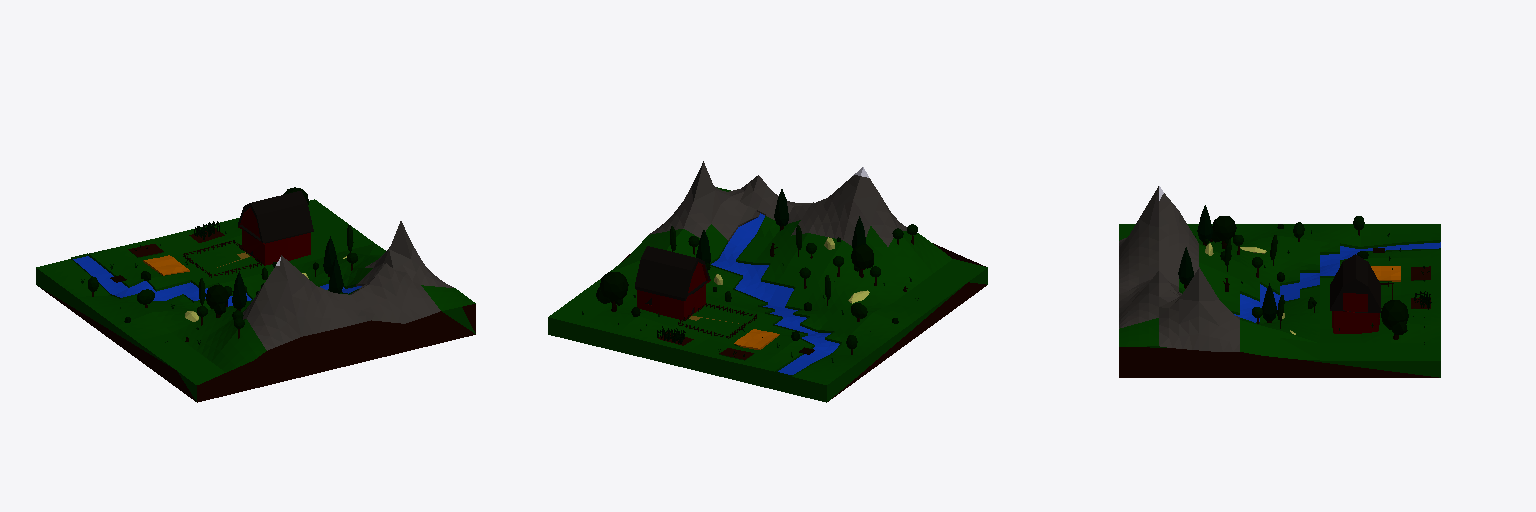
File: fazendinha2.obj
3 renders of one model, left to right at view 1: azimuth 30°, elevation 25°; view 2: azimuth 150°, elevation 25°; view 3: azimuth 270°, elevation 25°, orthographic.
Parts seen in each view (by area): view 1: Plane.039, Cube.001_Cube.000; view 2: Plane.039, Cube.001_Cube.000, Icosphere.010_Icosphere.000; view 3: Plane.039, Cube.001_Cube.000, Icosphere.010_Icosphere.000, Icosphere.000_Icosphere.000.
Part boxes in pixels (bbox=[...]): Plane.039: bbox=[36, 199, 475, 402]; Cube.001_Cube.000: bbox=[238, 191, 313, 265]; Plane.039: bbox=[548, 161, 987, 402]; Cube.001_Cube.000: bbox=[635, 246, 710, 319]; Icosphere.010_Icosphere.000: bbox=[596, 272, 628, 305]; Plane.039: bbox=[1119, 186, 1440, 377]; Cube.001_Cube.000: bbox=[1330, 254, 1380, 333]; Icosphere.010_Icosphere.000: bbox=[1381, 300, 1408, 334]; Icosphere.000_Icosphere.000: bbox=[1211, 216, 1236, 243].
Size of the model in its own units: 10.67 by 3.92 by 10.67.